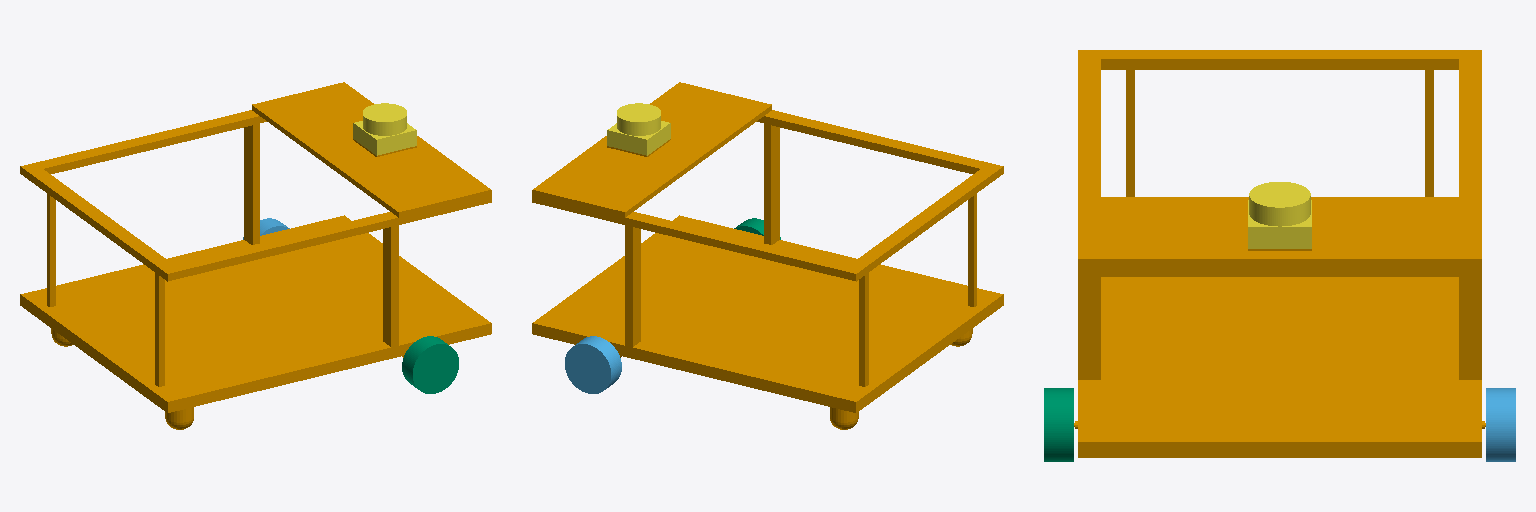
URDF robot description (FP_DARC):
<?xml version='1.0' encoding='utf-8'?>
<robot name="FP_DARC">
    <link name="base_link">
        <inertial>
            <origin xyz="0.014248278630327266 -1.1256463876270833e-16 0.08809110166240894" rpy="0.0 0.0 0.0" />
            <mass value="25.370430669503467" />
            <inertia ixx="0.43700216045651286" iyy="0.6193389146359399" izz="0.7959933109951695" ixy="-3.1478153640812046e-15" iyz="-2.5157174533884612e-16" ixz="-0.06472885644129664" />
        </inertial>
        <visual name="base_link_visual">
            <origin xyz="0.0 0.0 0.0" rpy="0.0 0.0 0.0" />
            <geometry>
                <mesh filename="package://FP_DARC/meshes/base_link.stl" scale="0.001 0.001 0.001" />
            </geometry>
        </visual>
        <collision name="base_link_collision">
            <origin xyz="0.0 0.0 0.0" rpy="0.0 0.0 0.0" />
            <geometry>
                <mesh filename="package://FP_DARC/meshes/base_link.stl" scale="0.001 0.001 0.001" />
            </geometry>
        </collision>
    </link>
    <link name="left_wheel_link">
        <inertial>
            <origin xyz="-2.842170943040401e-16 -4.4408920985006264e-17 -0.0022384734261346397" rpy="0.0 -0.0 0.0" />
            <mass value="0.6632556917446785" />
            <inertia ixx="0.00021132652048095127" iyy="0.00021132652048070494" izz="0.00035080091351932796" ixy="-8.673617379884035e-19" iyz="-1.734723475976807e-18" ixz="3.469446951953614e-18" />
        </inertial>
        <visual name="left_wheel_link_visual">
            <origin xyz="-0.1308000096526286 0.032500020853100324 -0.19500000000000003" rpy="1.5707963267948966 -0.0 0.0" />
            <geometry>
                <mesh filename="package://FP_DARC/meshes/left_wheel_link.stl" scale="0.001 0.001 0.001" />
            </geometry>
        </visual>
        <collision name="left_wheel_link_collision">
            <origin xyz="-0.1308000096526286 0.032500020853100324 -0.19500000000000003" rpy="1.5707963267948966 -0.0 0.0" />
            <geometry>
                <mesh filename="package://FP_DARC/meshes/left_wheel_link.stl" scale="0.001 0.001 0.001" />
            </geometry>
        </collision>
    </link>
    <link name="right_wheel_link">
        <inertial>
            <origin xyz="-3.375077994860476e-16 2.2204460492503132e-17 -0.0022384734261346397" rpy="0.0 -0.0 0.0" />
            <mass value="0.6632556917446786" />
            <inertia ixx="0.00021132652048094433" iyy="0.00021132652048071882" izz="0.00035080091351933837" ixy="-1.734723475976807e-18" iyz="-8.673617379884035e-19" ixz="-6.938893903907228e-18" />
        </inertial>
        <visual name="right_wheel_link_visual">
            <origin xyz="-0.1308000096526286 -0.032500020853100324 -0.19500000000000003" rpy="-1.5707963267948966 -0.0 0.0" />
            <geometry>
                <mesh filename="package://FP_DARC/meshes/right_wheel_link.stl" scale="0.001 0.001 0.001" />
            </geometry>
        </visual>
        <collision name="right_wheel_link_collision">
            <origin xyz="-0.1308000096526286 -0.032500020853100324 -0.19500000000000003" rpy="-1.5707963267948966 -0.0 0.0" />
            <geometry>
                <mesh filename="package://FP_DARC/meshes/right_wheel_link.stl" scale="0.001 0.001 0.001" />
            </geometry>
        </collision>
    </link>
    <link name="lidar_link">
        <inertial>
            <origin xyz="0.0 -5.316955220494399e-18 0.01821115335184331" rpy="0.0 -0.0 0.0" />
            <mass value="0.839241294222995" />
            <inertia ixx="0.00029665246862740913" iyy="0.00029665246862740913" izz="0.00038308114430482196" ixy="-8.888719094102273e-19" iyz="1.9227141262264804e-19" ixz="0.0" />
        </inertial>
        <visual name="lidar_link_visual">
            <origin xyz="-0.17920000000000003 0.0 -0.23870000000000002" rpy="0.0 -0.0 0.0" />
            <geometry>
                <mesh filename="package://FP_DARC/meshes/lidar_link.stl" scale="0.001 0.001 0.001" />
            </geometry>
        </visual>
        <collision name="lidar_link_collision">
            <origin xyz="-0.17920000000000003 0.0 -0.23870000000000002" rpy="0.0 -0.0 0.0" />
            <geometry>
                <mesh filename="package://FP_DARC/meshes/lidar_link.stl" scale="0.001 0.001 0.001" />
            </geometry>
        </collision>
    </link>
    <joint name="base_link_right_wheel_joint" type="continuous">
        <origin xyz="0.1308 -0.196 0.0325" rpy="1.5707963267948966 -0.0 0.0" />
        <parent link="base_link" />
        <child link="right_wheel_link" />
        <axis xyz="0.0 0.0 1.0" />
    </joint>
    <joint name="base_link_left_wheel_joint" type="continuous">
        <origin xyz="0.1308 0.196 0.0325" rpy="-1.5707963267948966 -0.0 0.0" />
        <parent link="base_link" />
        <child link="left_wheel_link" />
        <axis xyz="0.0 0.0 1.0" />
    </joint>
    <joint name="base_link_lidar_joint" type="fixed">
        <origin xyz="0.17920000000000003 0.0 0.23870000000000002" rpy="0.0 -0.0 0.0" />
        <parent link="base_link" />
        <child link="lidar_link" />
    </joint>
</robot>

--- Render facts (derived) ---
The picture shows the robot from 3 angles, left to right: view 1: azimuth 30°, elevation 25°; view 2: azimuth 150°, elevation 25°; view 3: azimuth 270°, elevation 25°; orthographic projection.
Model FP_DARC with 4 links and 3 joints (2 continuous, 1 fixed), rooted at base_link, posed every joint at zero.
Visible links, largest first — view 1: base_link, right_wheel_link, lidar_link; view 2: base_link, left_wheel_link, lidar_link; view 3: base_link, lidar_link, left_wheel_link, right_wheel_link.
Boxes of the visible links, x1,y1,x2,y2 form: base_link: (20,82,491,429); right_wheel_link: (402,336,458,393); lidar_link: (353,103,416,155); base_link: (532,82,1003,429); left_wheel_link: (565,336,621,393); lidar_link: (607,103,670,155); base_link: (1074,50,1485,457); lidar_link: (1248,182,1311,248); left_wheel_link: (1486,388,1515,461); right_wheel_link: (1044,388,1073,461).
Bounding box of the posed robot: 0.45 × 0.413 × 0.278 m (x, y, z).
Meshes: 4 distinct files referenced, 4 mesh visuals loaded (4 binary STL).